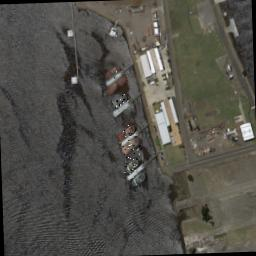boat: (106, 74, 127, 94), (116, 124, 136, 144), (122, 136, 142, 156), (130, 170, 148, 188), (105, 64, 121, 80), (112, 94, 128, 110), (124, 157, 139, 174), (112, 28, 118, 36)
